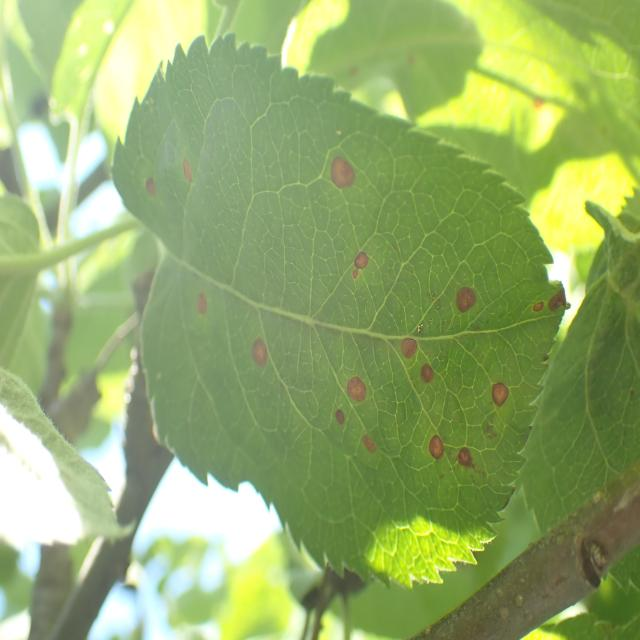frog-eye-leaf-spot: (111, 31, 572, 591)
